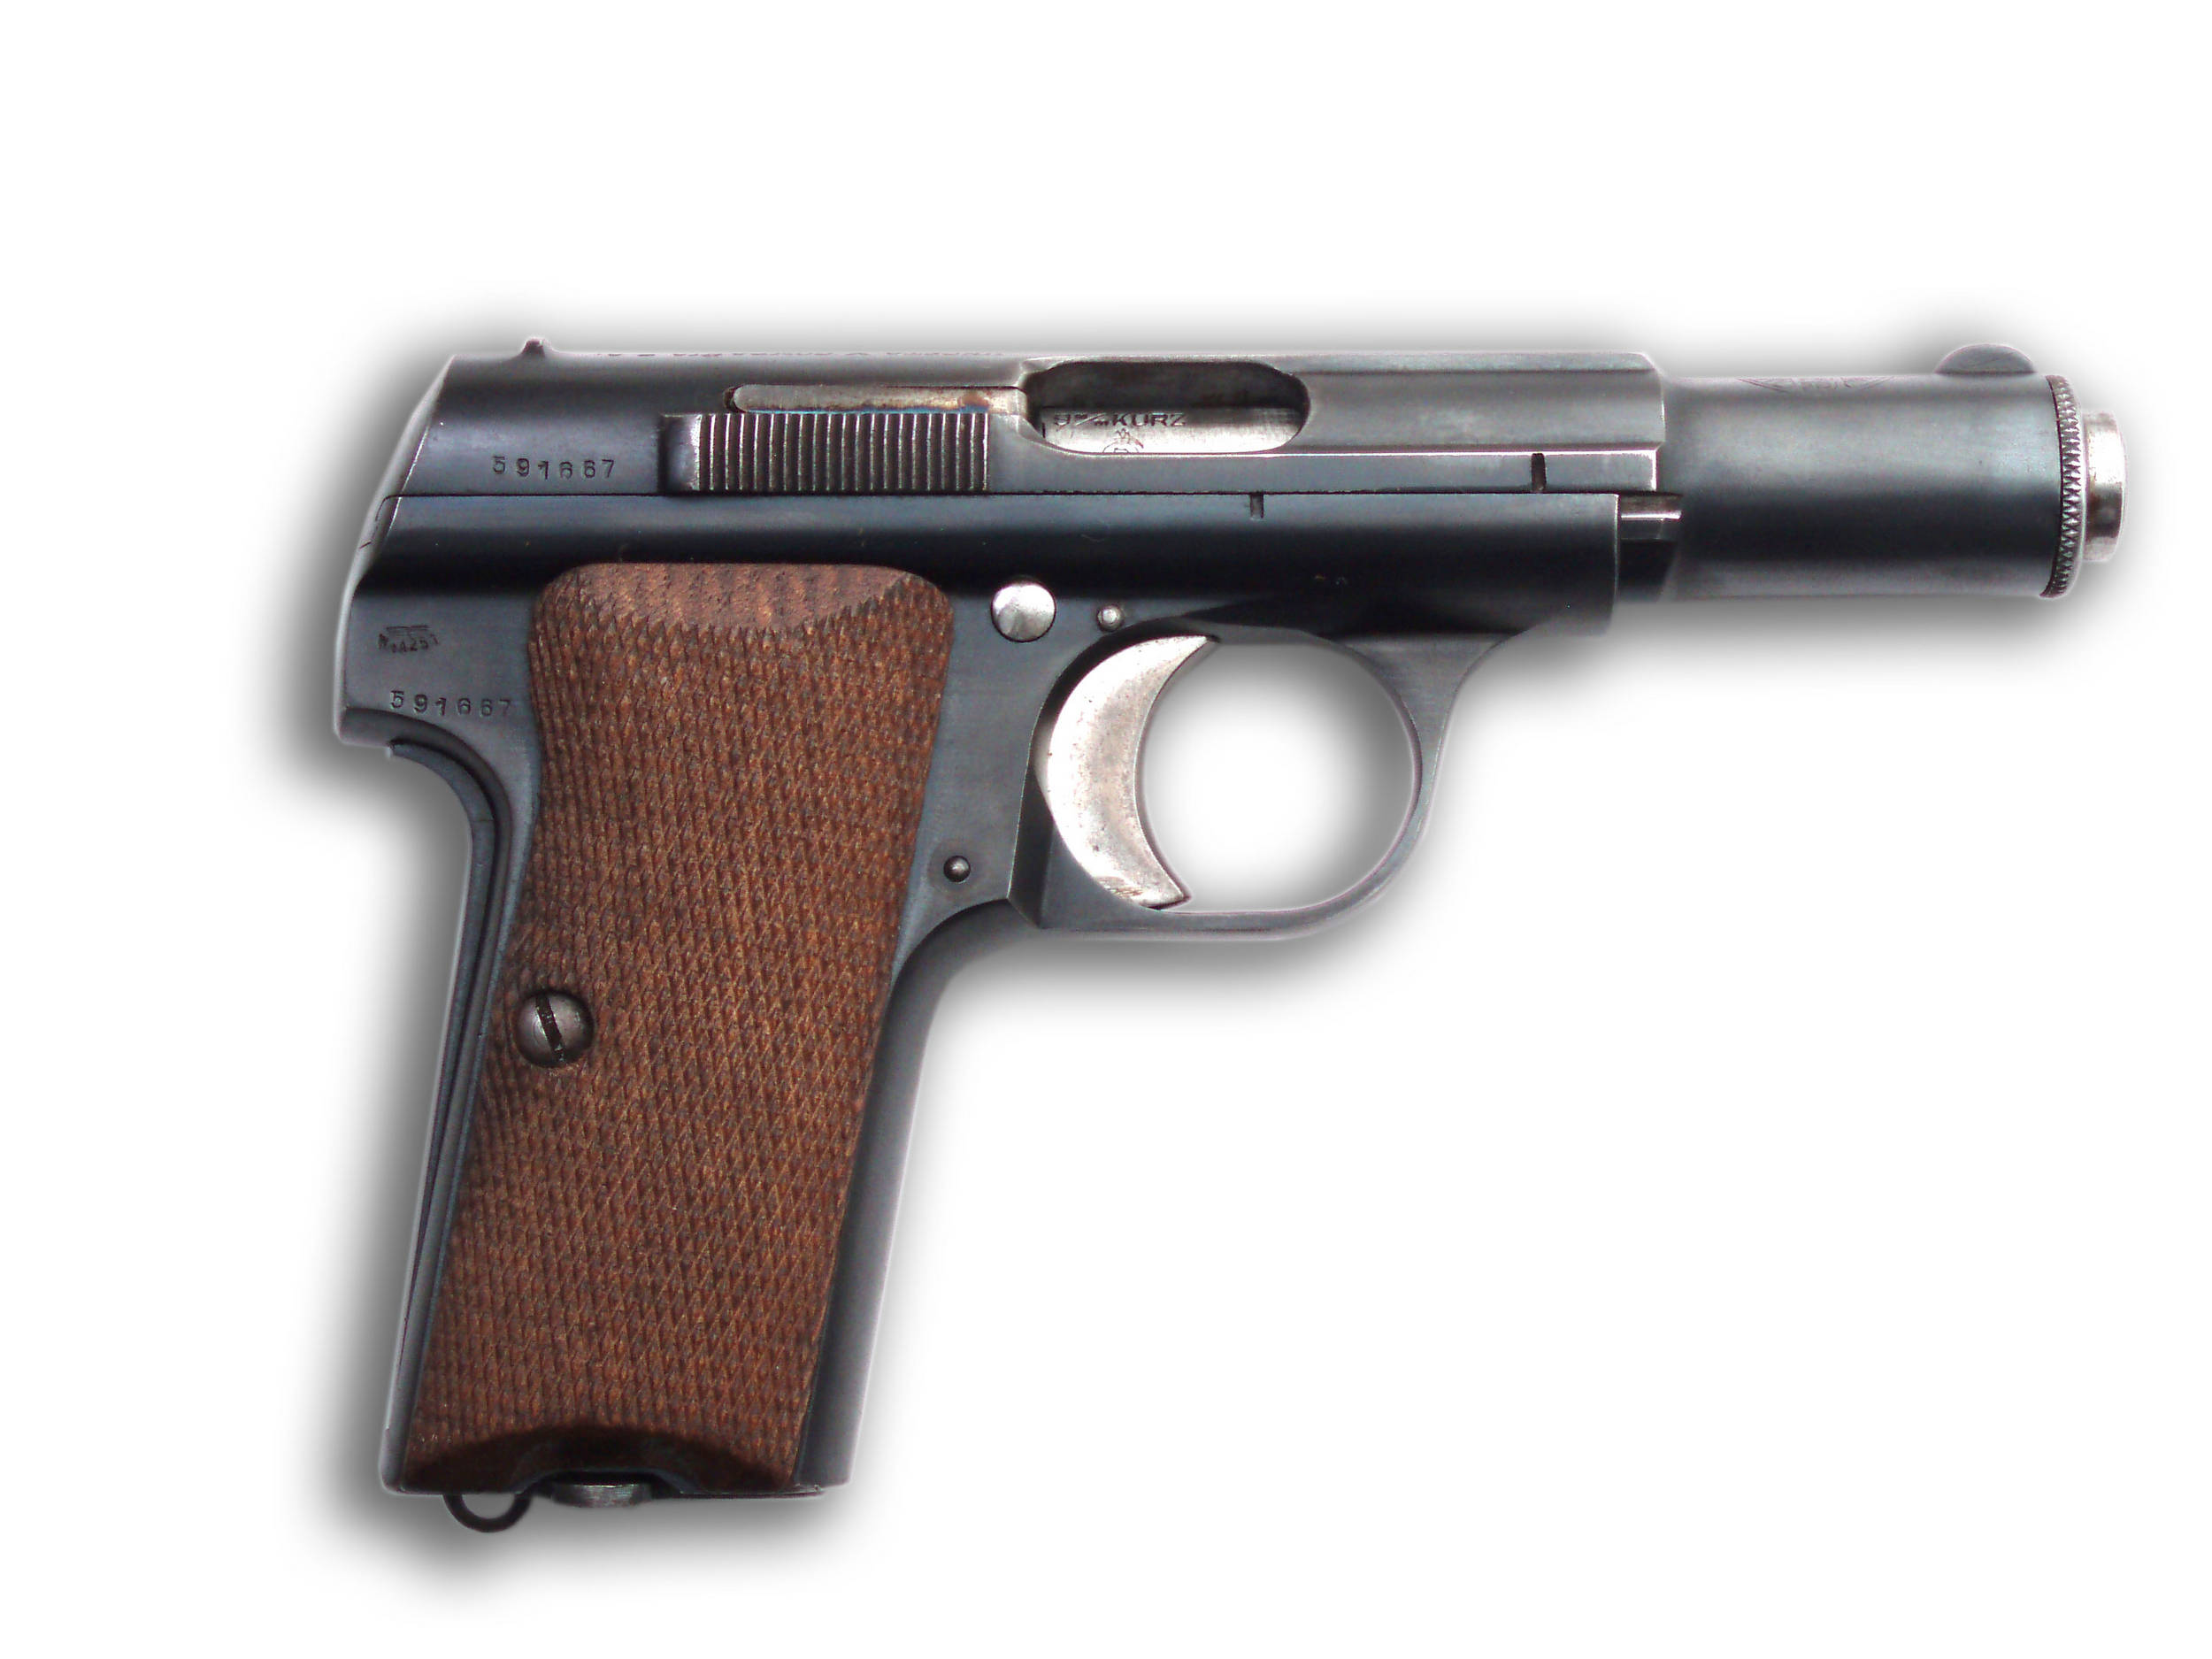gun: (305, 335, 2149, 1546)
